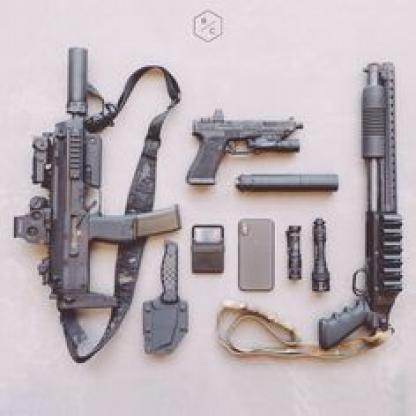Gun: (11, 45, 181, 311), (316, 61, 406, 351)
Knife: (142, 237, 190, 354)
Pistol: (186, 107, 306, 187)
